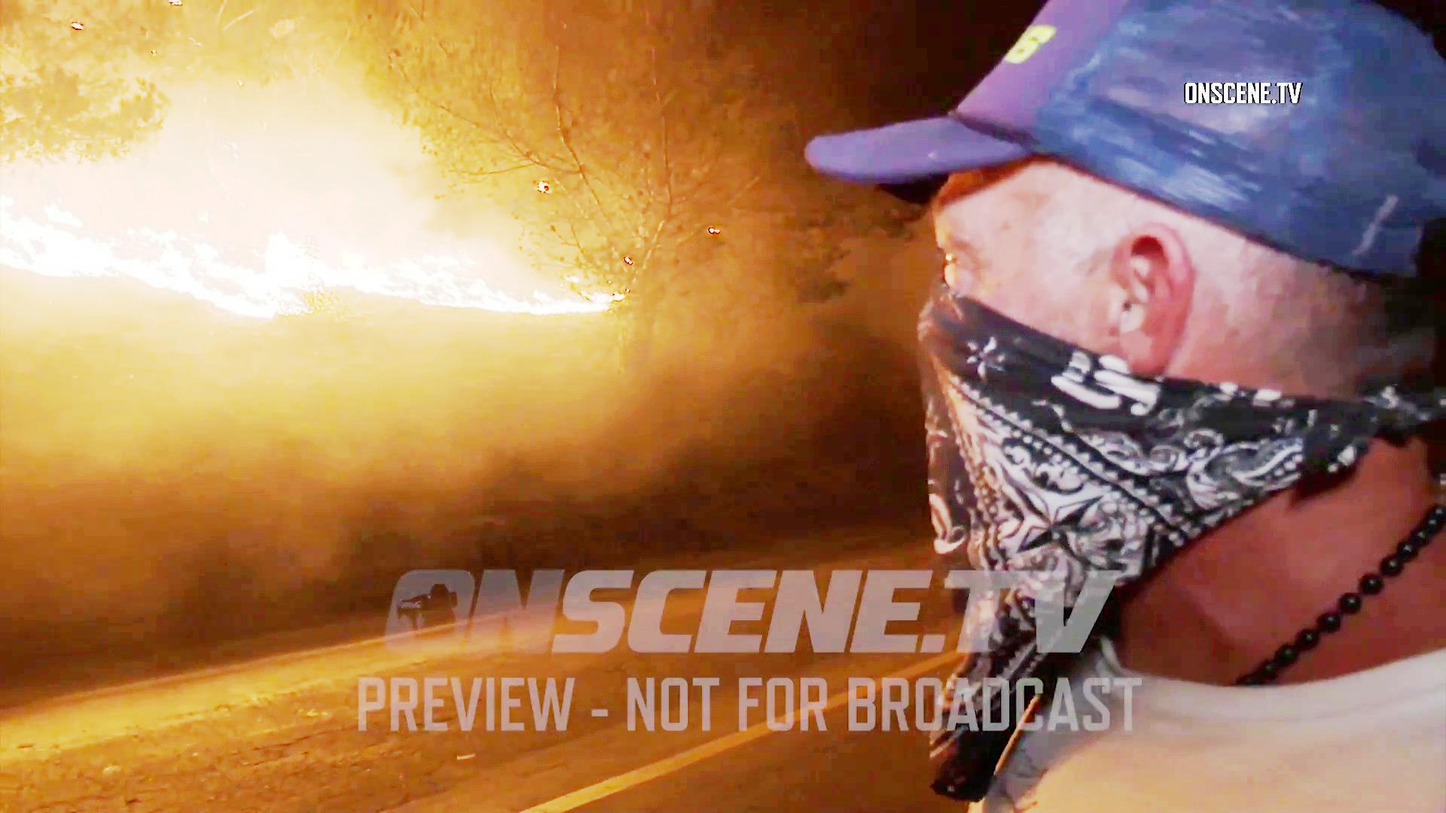fire: (0, 221, 448, 333)
